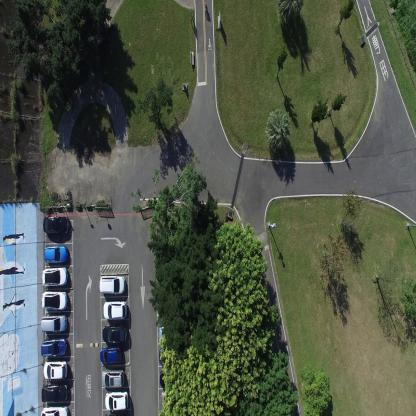car: (40, 289, 68, 312), (41, 266, 68, 288), (99, 274, 126, 296), (41, 381, 69, 402), (104, 389, 129, 411), (40, 313, 67, 333), (40, 336, 67, 356), (101, 367, 125, 389), (43, 244, 69, 264), (42, 360, 68, 380), (158, 347, 185, 366), (102, 324, 127, 344), (158, 324, 183, 344), (159, 368, 184, 388), (43, 216, 69, 235), (160, 390, 184, 410), (103, 300, 127, 319), (100, 346, 122, 364), (40, 404, 70, 415)
